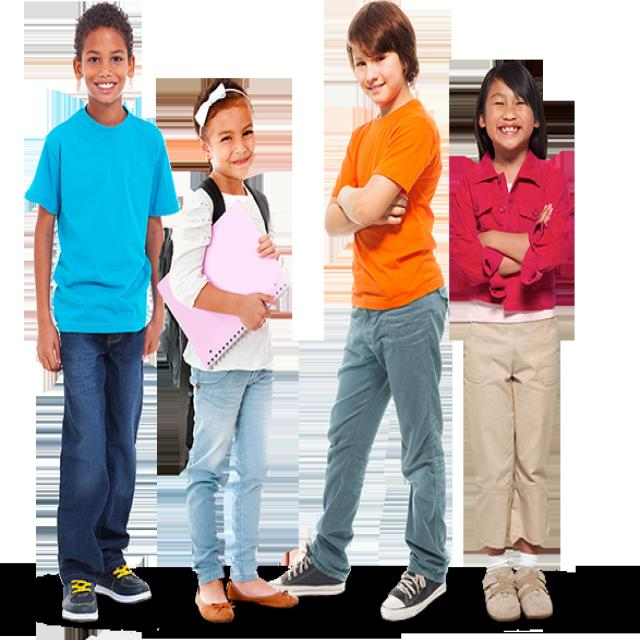child: (15, 1, 174, 635), (291, 1, 450, 634), (154, 57, 301, 629), (449, 50, 577, 638)
